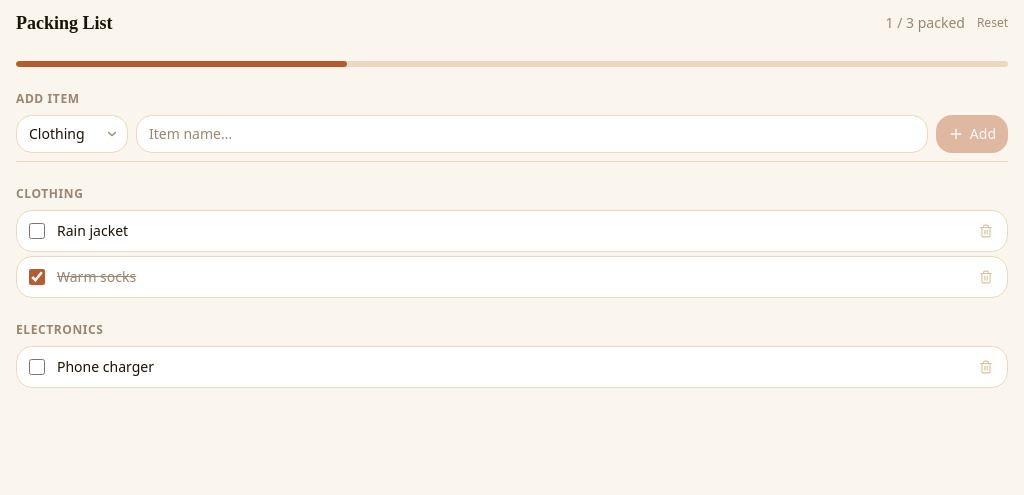
Test: ChecklistTab › adds a custom item and appends it to the list
Type "Travel pillow" into the field named "New item name" at (532, 134), box [136,115,928,153]
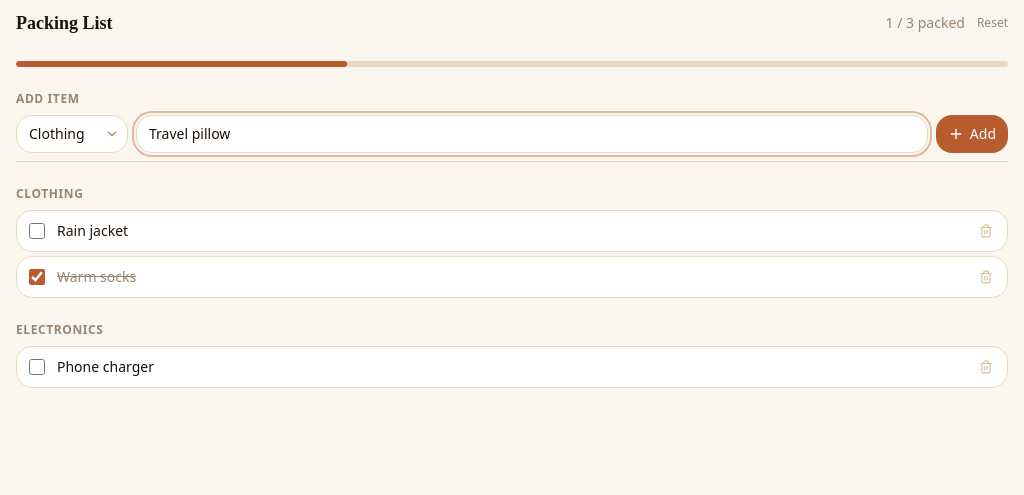
Click the button with aria-label "Add item" at (972, 134), box [936,115,1008,153]
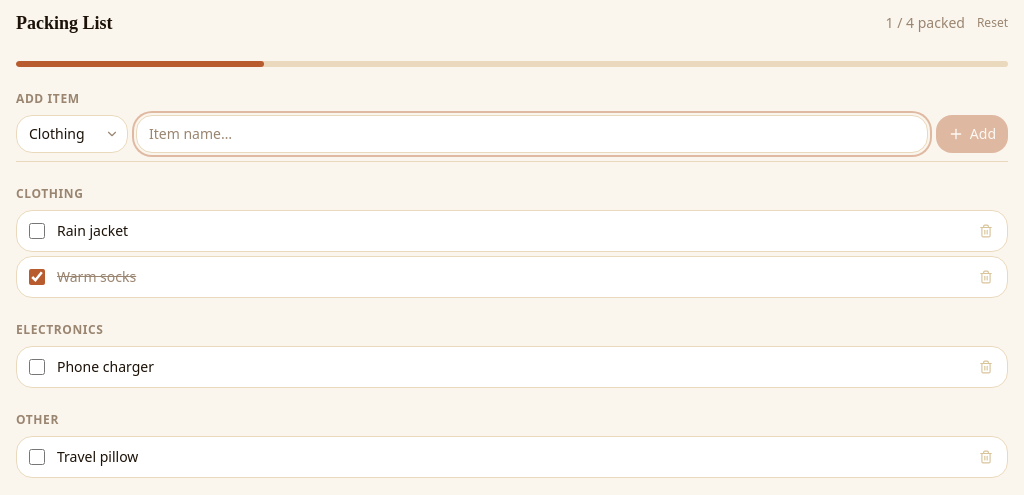
Result: the text "Travel pillow" is shown at [57,447,138,466]
